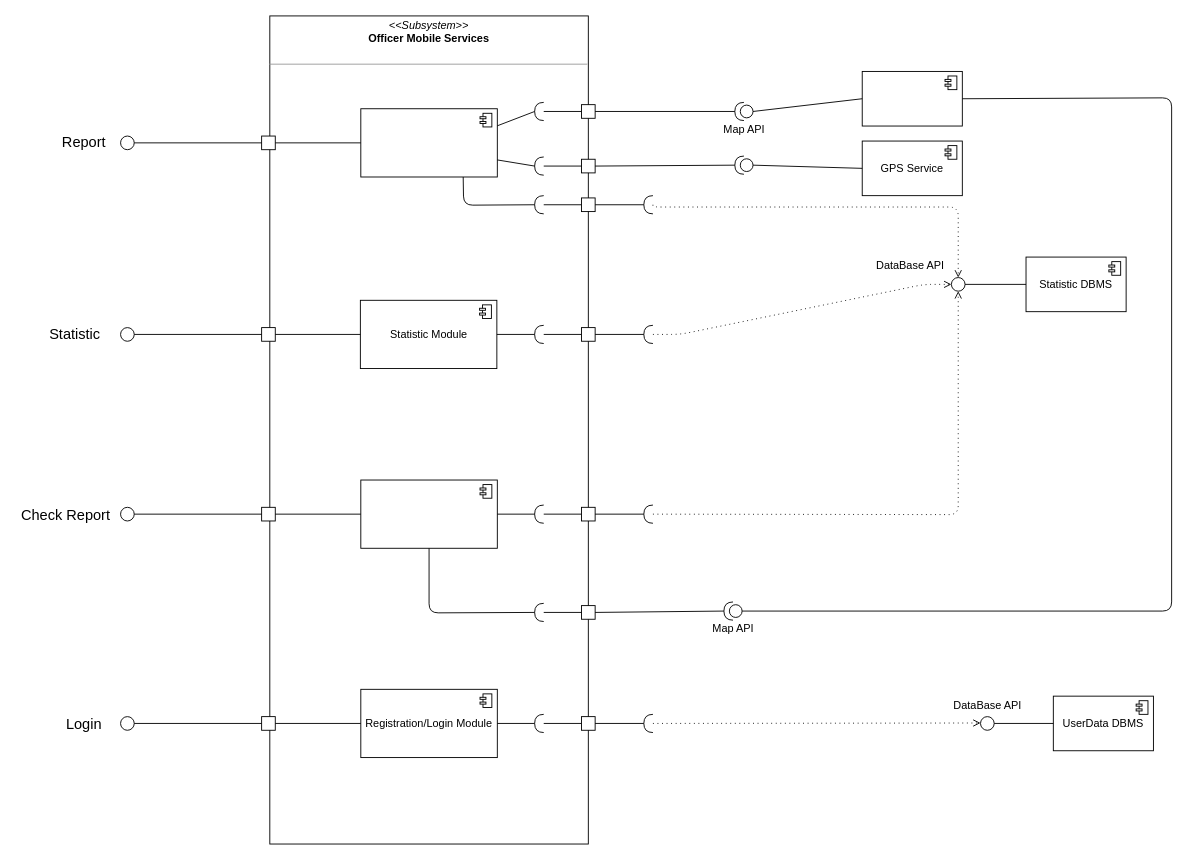
Image size: 1188x860. Some labels were removed from this diagram. The shapes that lost their labels are listed below. From the top down, each one's centre as x and y in pixels, then its label:
point 911,98: Map Service
point 428,142: Report Module
point 743,164: GPS API
point 428,513: Check Report Module
